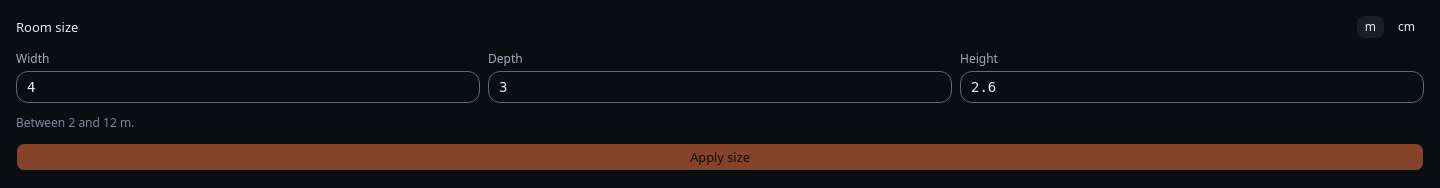
it: RoomSizePanel › resizes the room in one history entry that undo brings back
Replace the text in the field labelled "Width" with "5.5" at (248, 87), box [16,71,480,103]
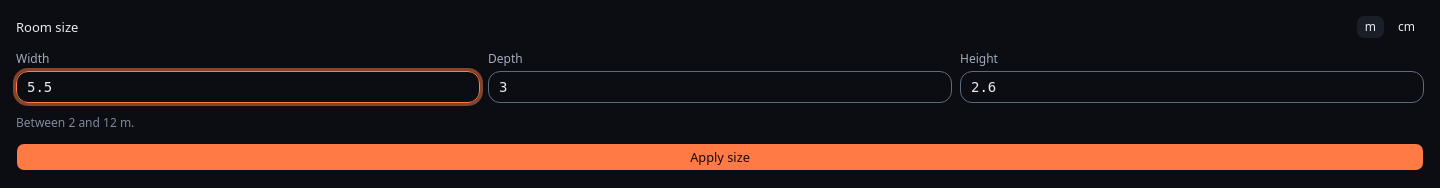
Replace the text in the field labelled "Depth" with "4,25" at (720, 87), box [488,71,952,103]
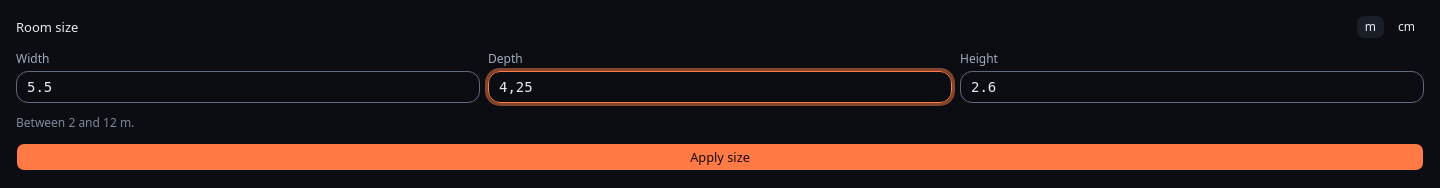
Click the button "Apply size" at (720, 157), box [16,143,1424,171]
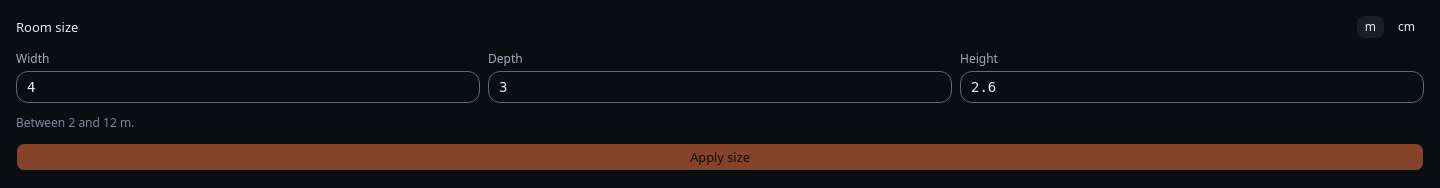
Expected: the button "Apply size" is disabled, [16,143,1424,171]
